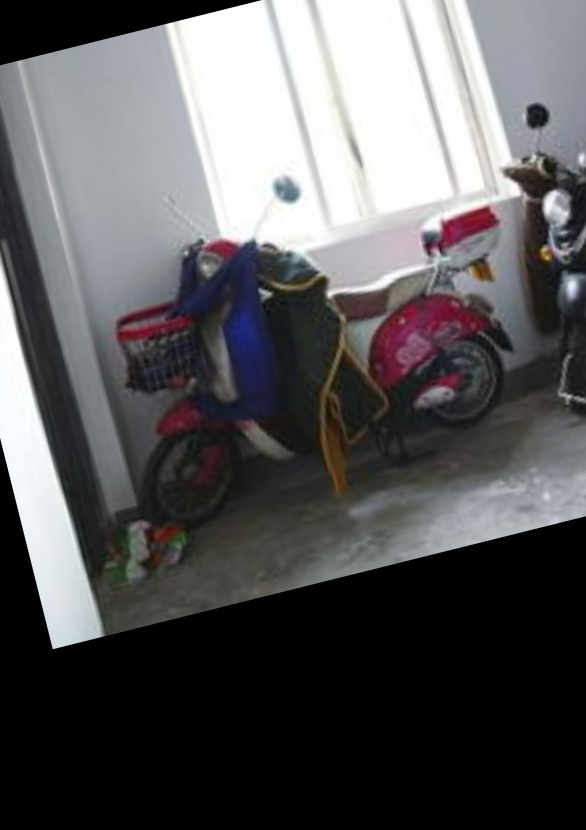ebike: (118, 174, 504, 513), (513, 94, 586, 350)
